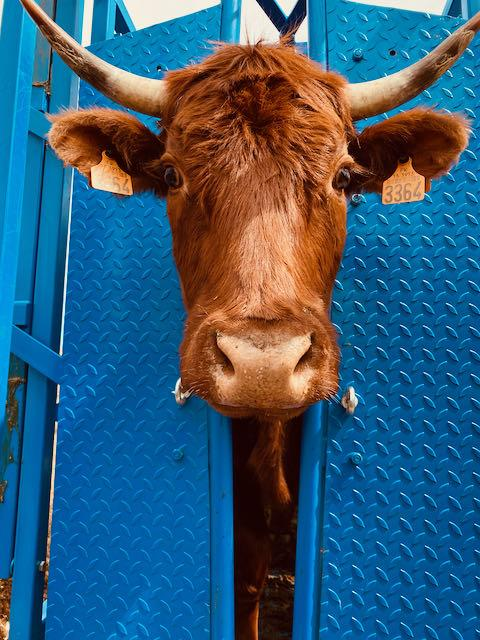muzzles: (170, 312, 343, 420)
